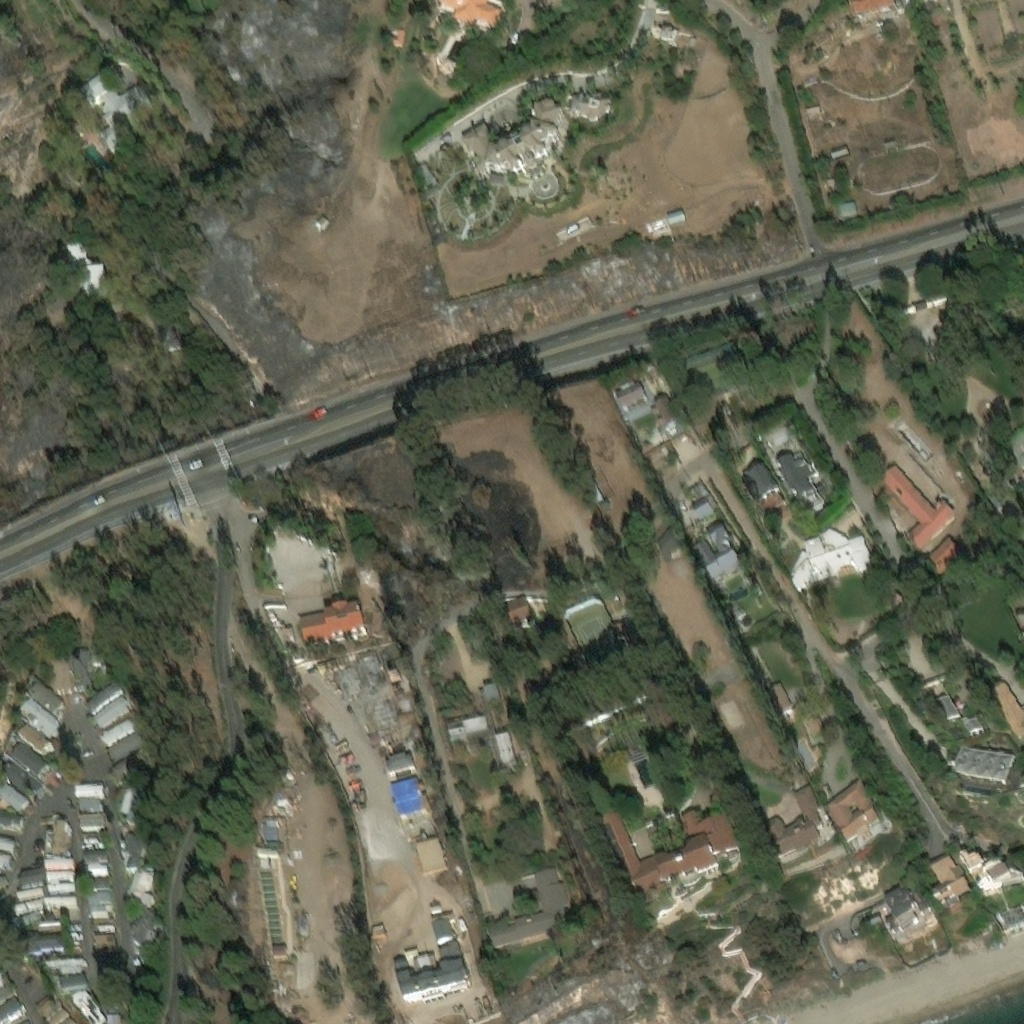0 no-damage: (594, 804, 741, 899), (483, 860, 570, 947), (389, 909, 468, 1001), (875, 458, 954, 545), (761, 782, 836, 869), (787, 522, 873, 588), (461, 120, 559, 176), (82, 62, 151, 135), (824, 783, 884, 851), (296, 597, 365, 643), (945, 745, 1015, 789), (928, 856, 975, 916), (989, 674, 1023, 746), (882, 887, 927, 941), (436, 0, 503, 36), (64, 239, 105, 297), (745, 459, 785, 514), (689, 535, 739, 577), (361, 684, 406, 724), (15, 690, 58, 730), (75, 667, 119, 706), (923, 530, 962, 571), (0, 755, 41, 794), (86, 685, 126, 723), (101, 717, 140, 755), (94, 702, 133, 739), (23, 670, 61, 707), (978, 864, 1023, 895), (7, 734, 45, 770), (14, 716, 51, 751), (69, 988, 106, 1023), (107, 737, 142, 773), (568, 93, 612, 121), (1000, 586, 1023, 639), (354, 643, 386, 681), (122, 863, 150, 902), (445, 713, 488, 738), (763, 678, 793, 712), (415, 832, 443, 868), (333, 656, 362, 690), (68, 637, 91, 679), (492, 727, 517, 765), (655, 523, 682, 558), (529, 98, 561, 127), (616, 382, 648, 411), (118, 826, 141, 866), (44, 951, 82, 975), (0, 776, 27, 809), (31, 986, 61, 1015), (505, 595, 533, 626), (48, 815, 71, 852), (26, 930, 63, 953), (688, 490, 717, 518), (847, 0, 894, 17), (0, 994, 26, 1023), (933, 690, 959, 718), (655, 395, 679, 425), (45, 892, 75, 916), (132, 909, 154, 941), (12, 893, 44, 914), (384, 746, 413, 769), (43, 999, 70, 1023), (13, 907, 40, 928), (58, 973, 86, 993), (80, 839, 108, 858), (706, 518, 728, 542), (18, 864, 41, 886), (411, 949, 432, 973), (14, 882, 42, 900), (72, 775, 101, 792), (116, 779, 133, 808), (658, 22, 679, 43), (44, 866, 73, 881), (76, 807, 103, 823), (43, 853, 73, 867), (45, 879, 75, 892), (89, 931, 113, 947), (0, 806, 21, 824), (84, 886, 110, 900), (962, 713, 982, 731), (482, 680, 499, 699), (610, 618, 627, 637), (82, 858, 106, 871), (81, 873, 107, 885), (86, 900, 110, 913), (57, 1009, 79, 1023), (76, 792, 99, 805), (390, 26, 403, 45), (0, 835, 14, 850), (92, 918, 113, 928), (261, 821, 274, 834), (0, 851, 11, 866), (270, 939, 283, 951), (686, 34, 696, 44), (0, 875, 6, 889), (426, 897, 436, 904)
